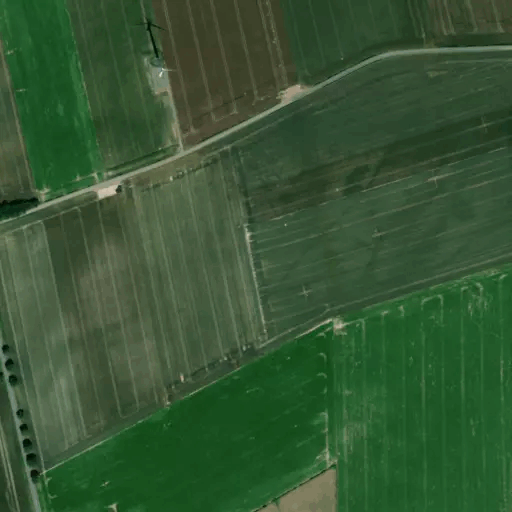wt: (130, 9, 180, 86)
